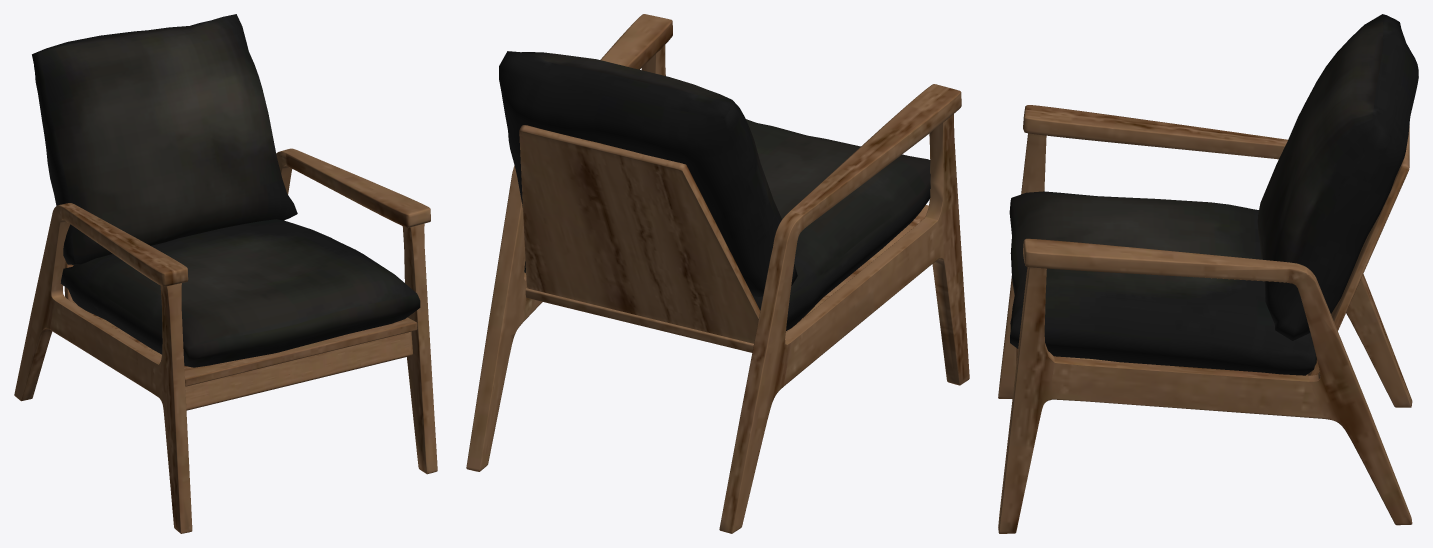
The model's file is modern_arm_chair_01.glb.
3 renders of one model, left to right at view 1: azimuth 30°, elevation 25°; view 2: azimuth 150°, elevation 25°; view 3: azimuth 270°, elevation 25°, orthographic. The views are drawn at different scales.
Parts seen in each view (by area): view 1: modern_arm_chair_01; view 2: modern_arm_chair_01; view 3: modern_arm_chair_01.
Part boxes in pixels (x1,y1,x2,y2): modern_arm_chair_01: (14, 14, 437, 533); modern_arm_chair_01: (466, 14, 969, 533); modern_arm_chair_01: (998, 14, 1418, 533).
Bounding box in the file's own units: 0.8203 × 1.02 × 0.9866.
Materials: 2 (2 with a texture image).
